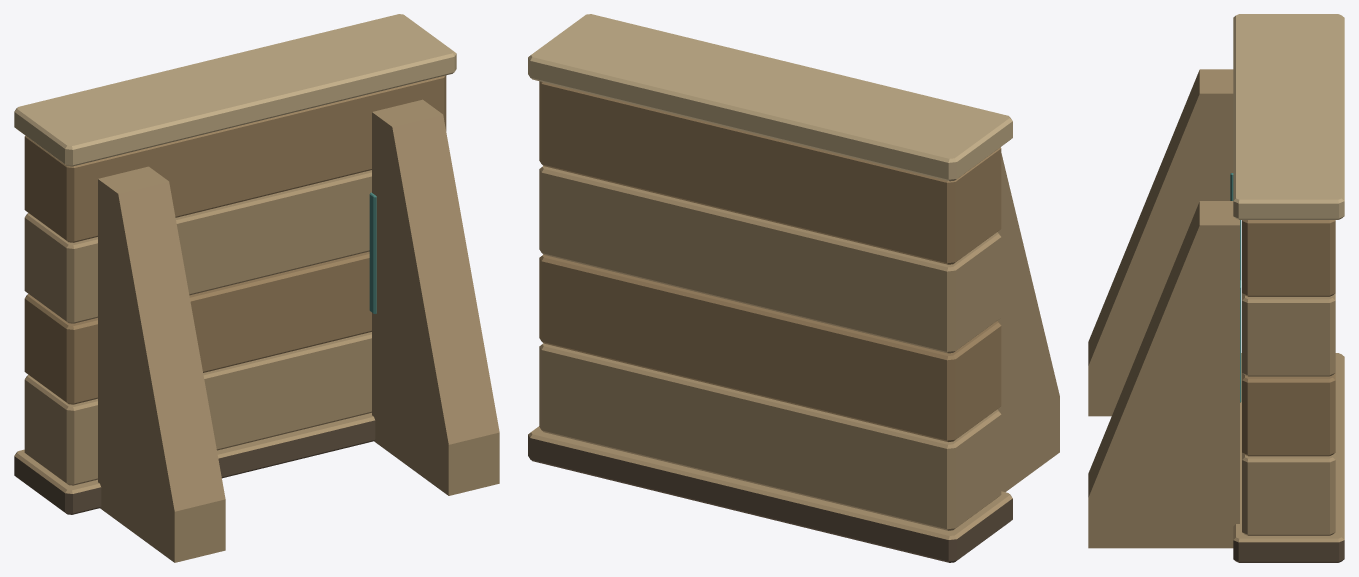
File: wall-buttress.glb
3 renders of one model, left to right at view 1: azimuth 30°, elevation 25°; view 2: azimuth 150°, elevation 25°; view 3: azimuth 270°, elevation 25°, orthographic. The views are drawn at different scales.
Visible parts, largest first — view 1: wall-buttress__body; view 2: wall-buttress__body; view 3: wall-buttress__body.
Part boxes in pixels (x1,y1,x2,y2): wall-buttress__body: [14, 14, 499, 562]; wall-buttress__body: [528, 14, 1059, 562]; wall-buttress__body: [1088, 14, 1344, 562].
Bounding box in the file's own units: 2 × 1.8 × 1.15.
